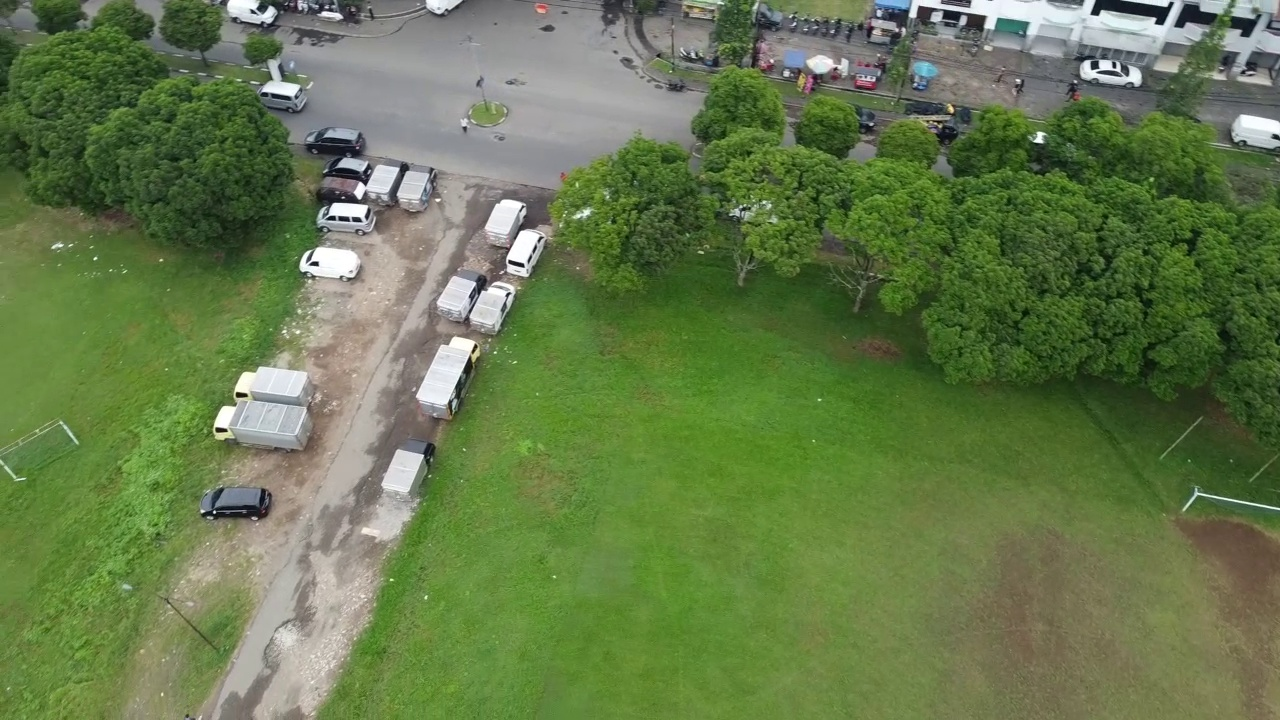mobil: (201, 480, 274, 526), (1077, 48, 1147, 94), (301, 245, 366, 285), (305, 120, 369, 159), (504, 225, 549, 280), (259, 74, 314, 118), (318, 203, 376, 236), (223, 1, 282, 31), (320, 153, 374, 183), (316, 173, 366, 202)
